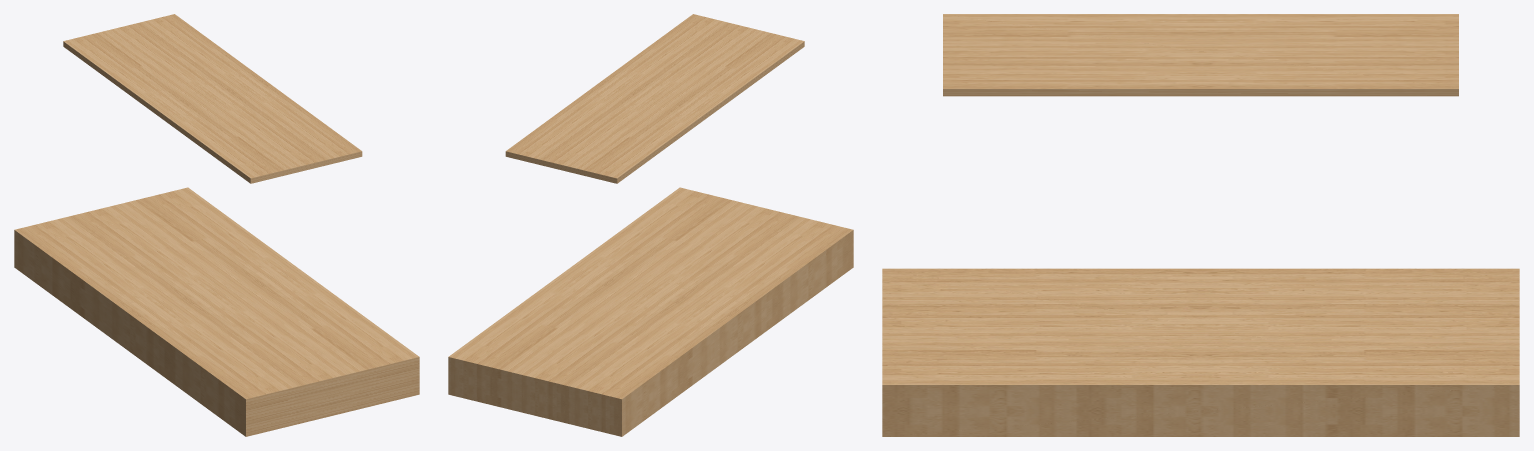
The model's file is ospol.obj.
The picture shows the model from 3 angles, left to right: view 1: azimuth 30°, elevation 25°; view 2: azimuth 150°, elevation 25°; view 3: azimuth 270°, elevation 25°; orthographic projection. The views are drawn at different scales.
Parts seen in each view (by area): view 1: Cube_Cube.001; view 2: Cube_Cube.001; view 3: Cube_Cube.001.
Part boxes in pixels (<box>): Cube_Cube.001: <box>14,14,419,436</box>; Cube_Cube.001: <box>448,14,853,436</box>; Cube_Cube.001: <box>882,14,1519,436</box>.
Bounding box in the file's own units: 0.8662 × 1.12 × 2.
